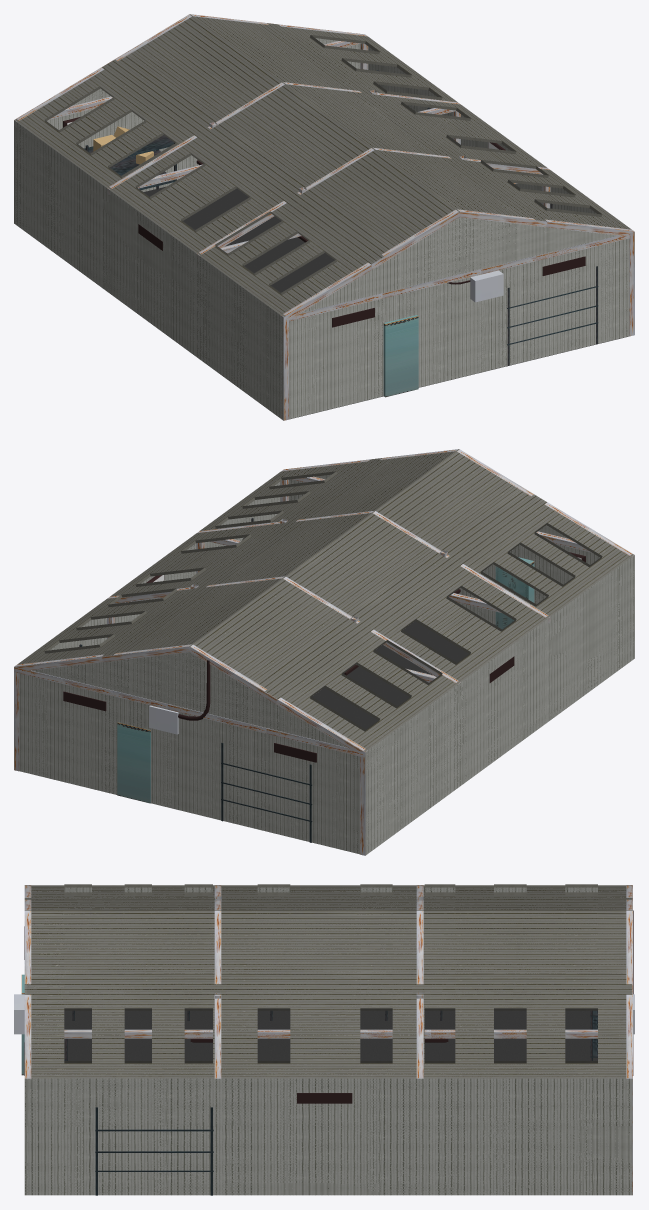
File: New-drift-game-garage.fbx
3 renders of one model, top to bottom at view 1: azimuth 30°, elevation 25°; view 2: azimuth 150°, elevation 25°; view 3: azimuth 270°, elevation 25°, orthographic. The views are drawn at different scales.
Visible parts, largest first — view 1: Roof, Wall, Garder, Floor, Locker, Table_rack, Lights, AC; view 2: Roof, Wall, Garder, Locker, Floor, Lights, Table_rack, AC; view 3: Roof, Wall, Floor, Garder, Table_rack, Lights, AC.
Boxes of the visible parts, left/top/right/bottom form: Roof: left=15, top=14, right=631, bottom=316; Wall: left=14, top=38, right=629, bottom=420; Garder: left=14, top=14, right=634, bottom=420; Floor: left=144, top=186, right=628, bottom=419; Locker: left=383, top=315, right=418, bottom=397; Table_rack: left=84, top=70, right=598, bottom=365; Lights: left=63, top=117, right=585, bottom=327; AC: left=470, top=270, right=503, bottom=302; Roof: left=17, top=449, right=633, bottom=751; Wall: left=19, top=474, right=634, bottom=855; Garder: left=14, top=449, right=634, bottom=855; Locker: left=117, top=557, right=534, bottom=803; Floor: left=312, top=621, right=495, bottom=729; Lights: left=63, top=552, right=585, bottom=762; Table_rack: left=79, top=518, right=312, bottom=842; AC: left=149, top=705, right=178, bottom=734; Roof: left=24, top=884, right=632, bottom=1078; Wall: left=24, top=887, right=632, bottom=1195; Floor: left=64, top=1010, right=597, bottom=1060; Garder: left=24, top=885, right=632, bottom=1195; Table_rack: left=64, top=1010, right=633, bottom=1195; Lights: left=24, top=910, right=633, bottom=1103; AC: left=14, top=994, right=634, bottom=1034.
Bounding box in the file's own units: 2792 × 1263 × 3780.
